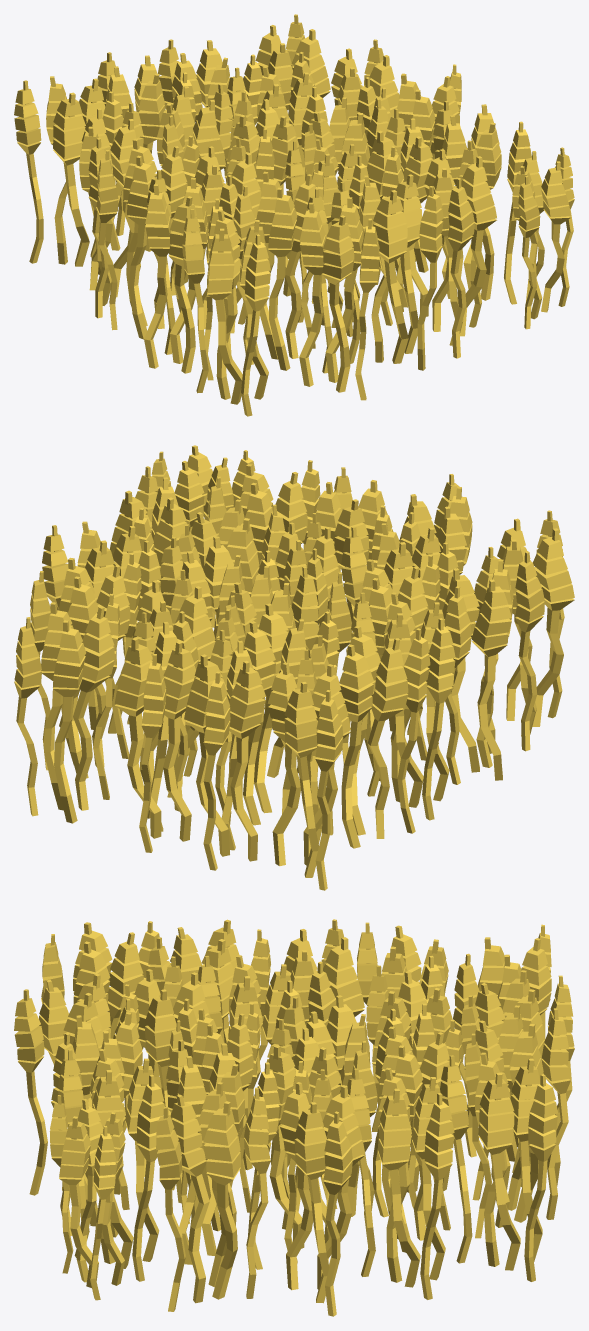
File: wheat.glb
3 views of the same model, one above another, from view 1: azimuth 30°, elevation 25°; view 2: azimuth 150°, elevation 25°; view 3: azimuth 270°, elevation 25° (orthographic). The views are drawn at different scales.
Visible parts, largest first — view 1: wheat; view 2: wheat; view 3: wheat.
Boxes of the visible parts, bbox=[...] form: wheat: bbox=[14, 14, 574, 416]; wheat: bbox=[14, 445, 574, 890]; wheat: bbox=[14, 919, 574, 1316].
Bounding box in the file's own units: 6.97 × 3.22 × 7.93.
